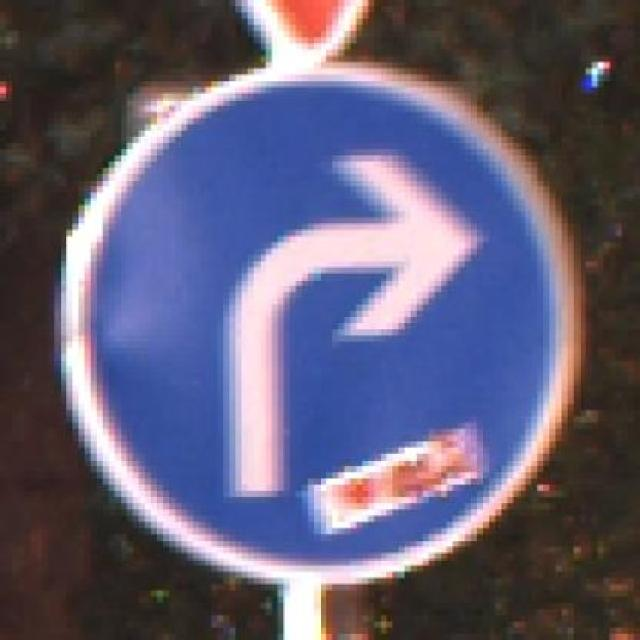Turn right ahead: (38, 63, 612, 599)
